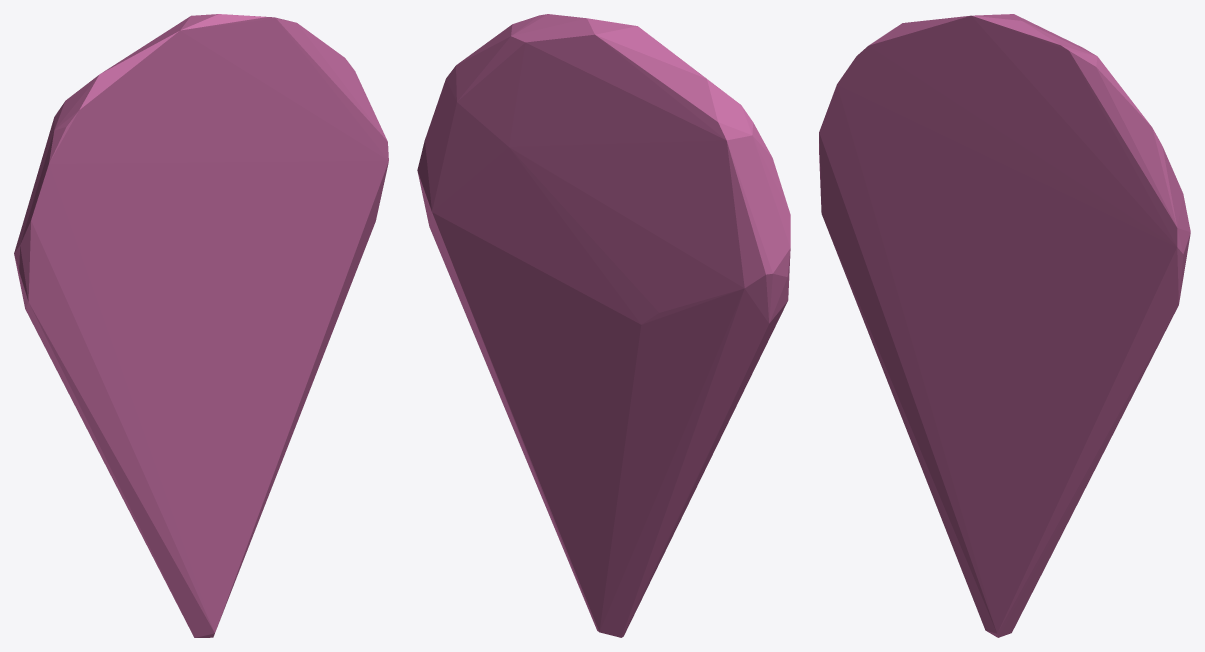
File: kitchenware_pan_d01.glb
The picture shows the model from 3 angles, left to right: view 1: azimuth 30°, elevation 25°; view 2: azimuth 150°, elevation 25°; view 3: azimuth 330°, elevation 25°; orthographic projection.
Parts seen in each view (by area): view 1: geometry_0; view 2: geometry_0; view 3: geometry_0.
Boxes of the visible parts, bbox=[...] form: geometry_0: bbox=[14, 14, 388, 637]; geometry_0: bbox=[417, 14, 790, 637]; geometry_0: bbox=[819, 14, 1190, 637].
Bounding box in the file's own units: 0.298 × 0.4777 × 0.0396.
